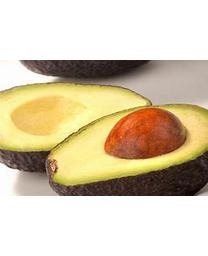avocado: (44, 100, 207, 195), (0, 82, 154, 173)
